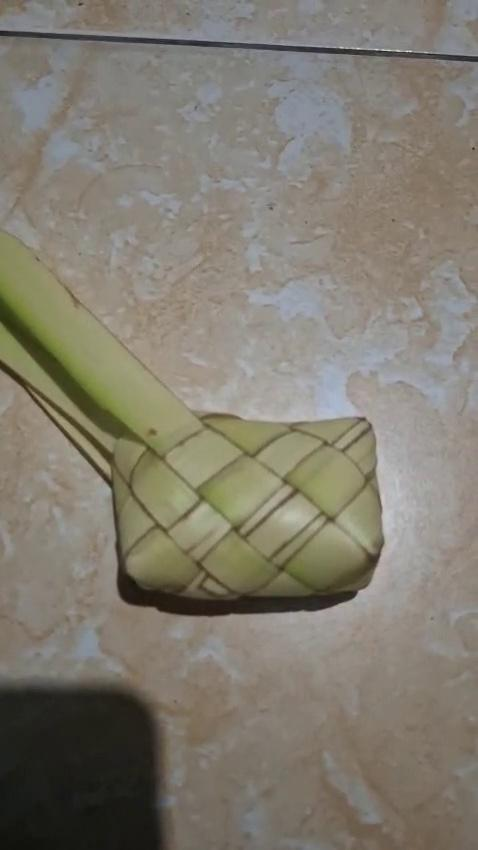Tipat Bantal: (6, 223, 384, 611)
